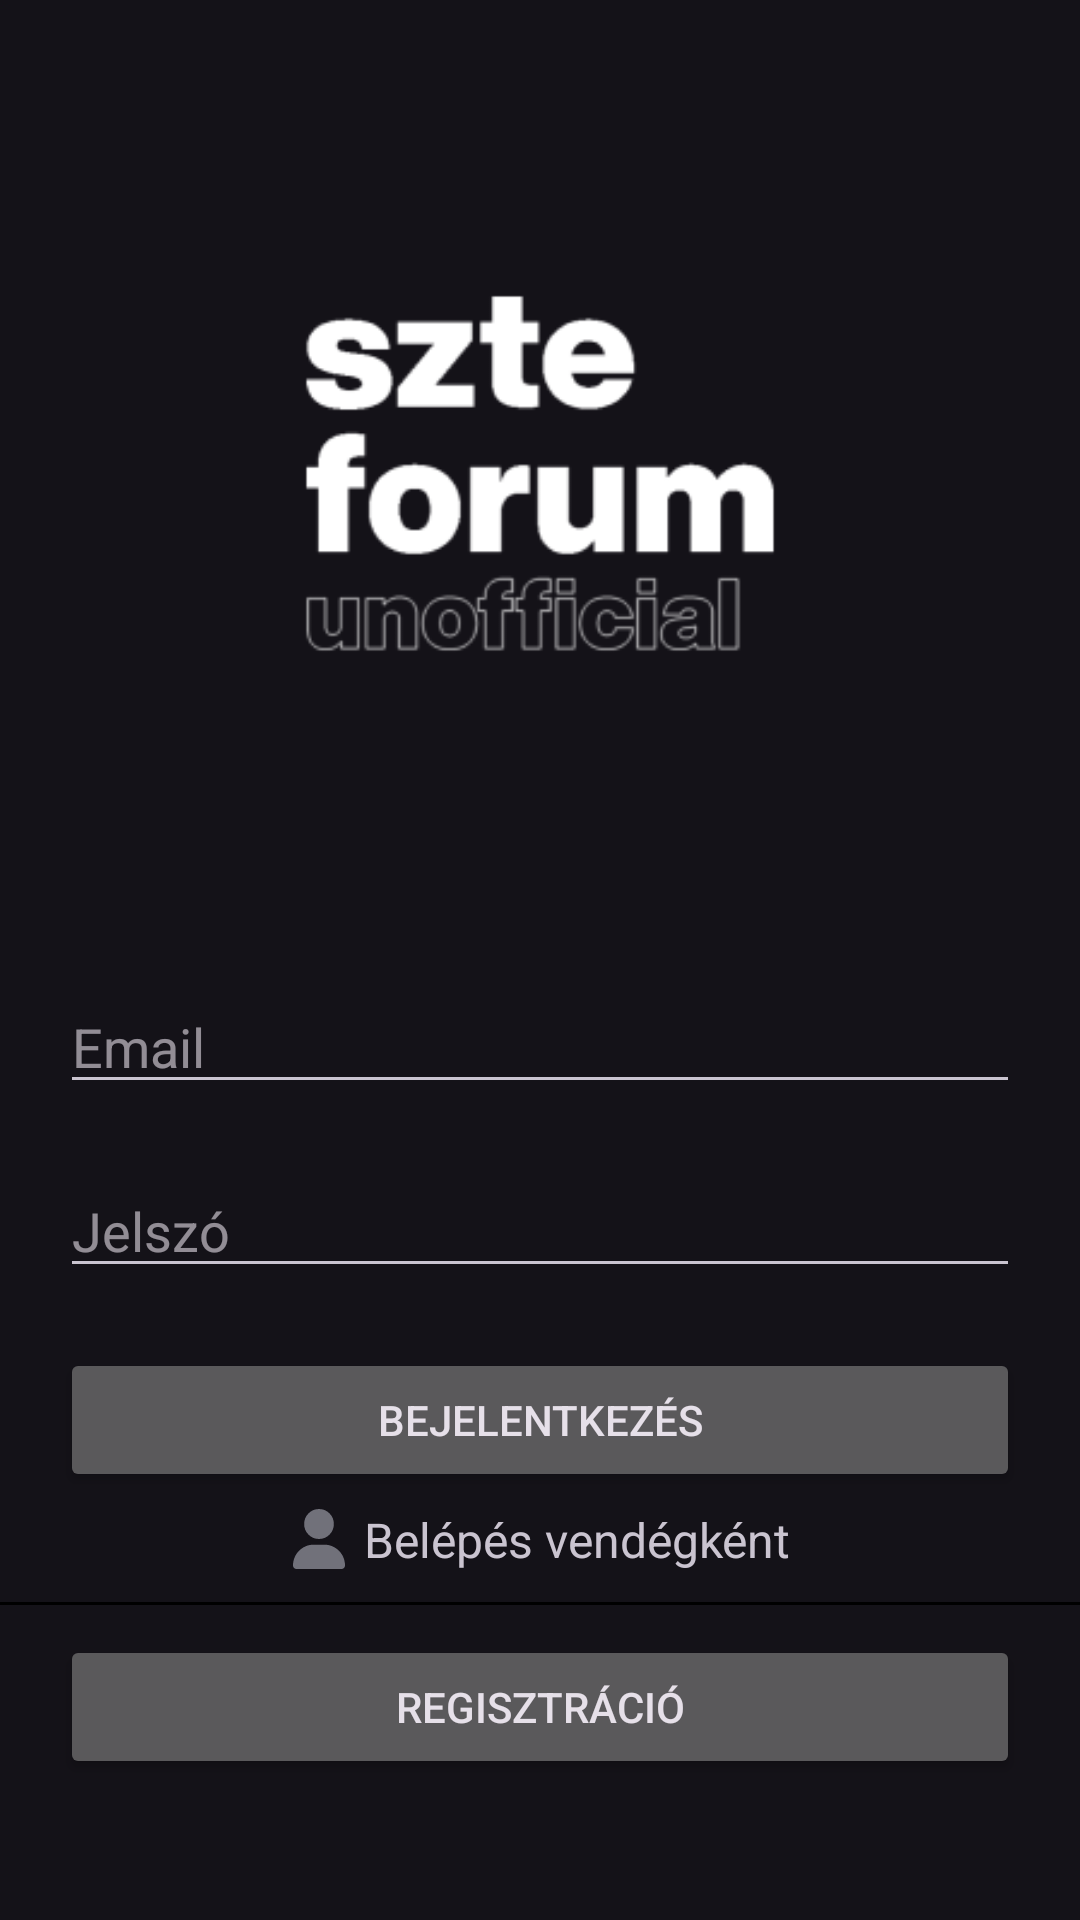

Locate icon controls on the screen. Image size 1080w x 1920h, boxes as {"x1": x1, "y1": y1, "x2": x2, "y2": y2}.
guest icon (user): {"x1": 293, "y1": 1509, "x2": 345, "y2": 1569}
